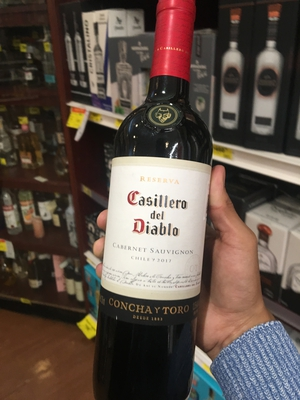casillero del diablo cabernet sauvignon: (89, 13, 218, 400)
